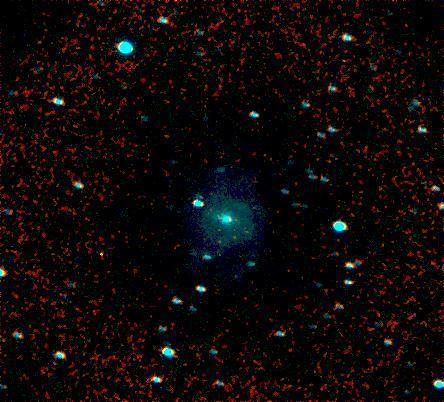star: (220, 223, 250, 253)
